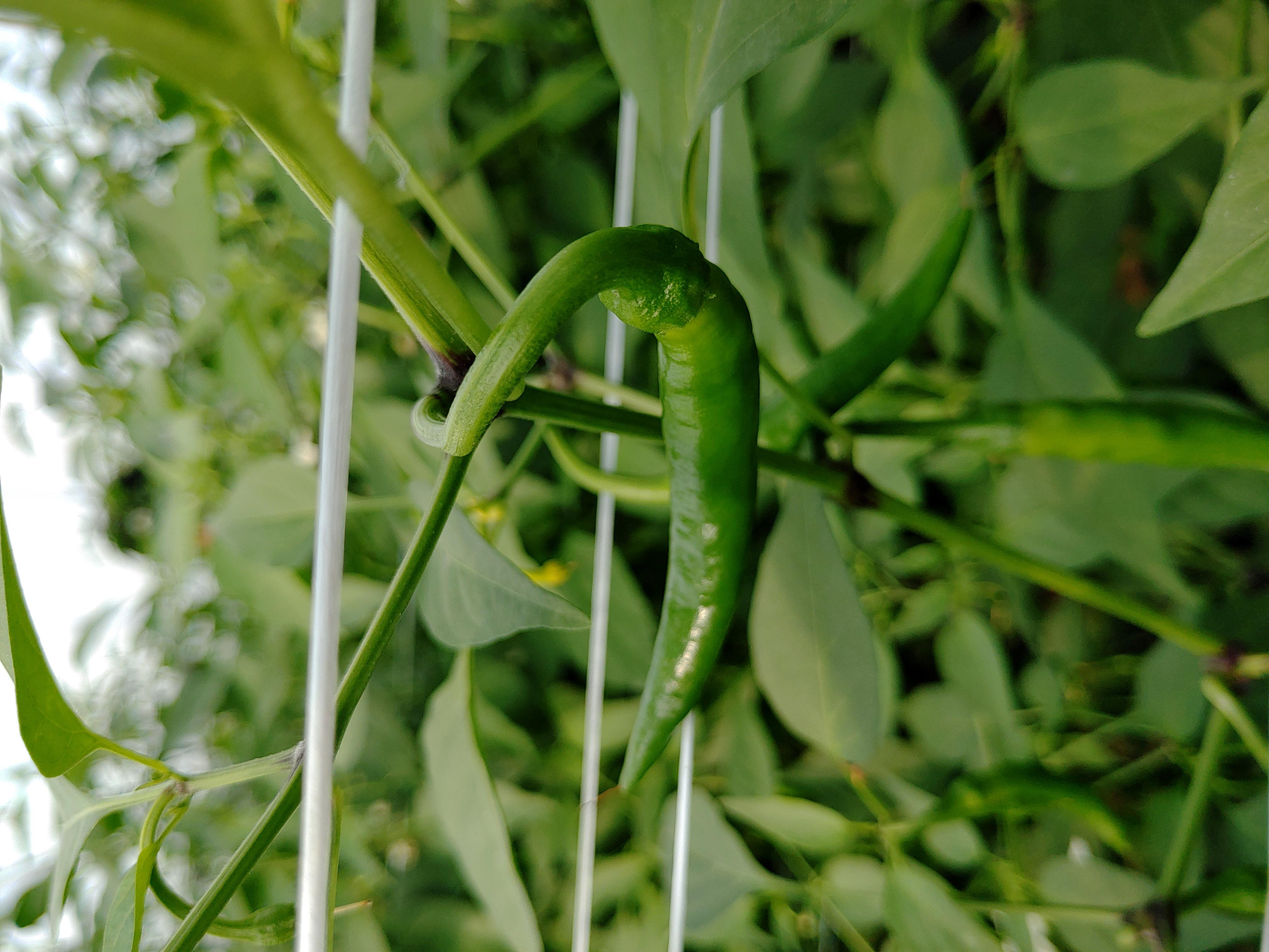Buah Cabai Sehat: (600, 220, 764, 795)
